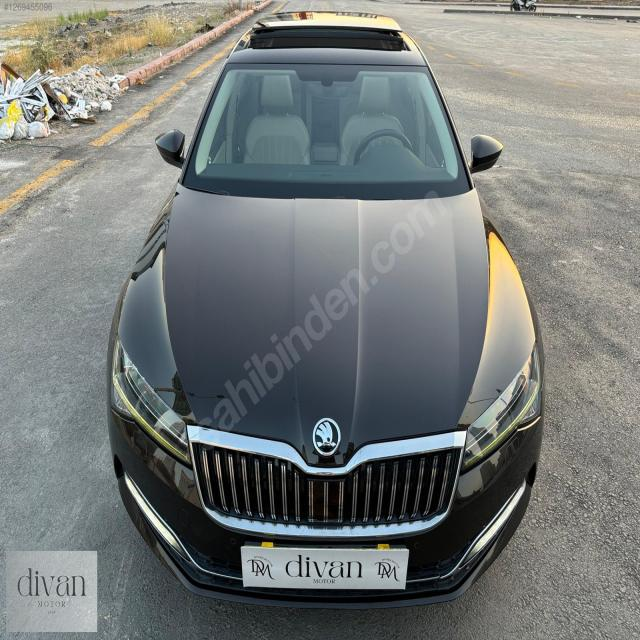skoda: (311, 416, 342, 457)
